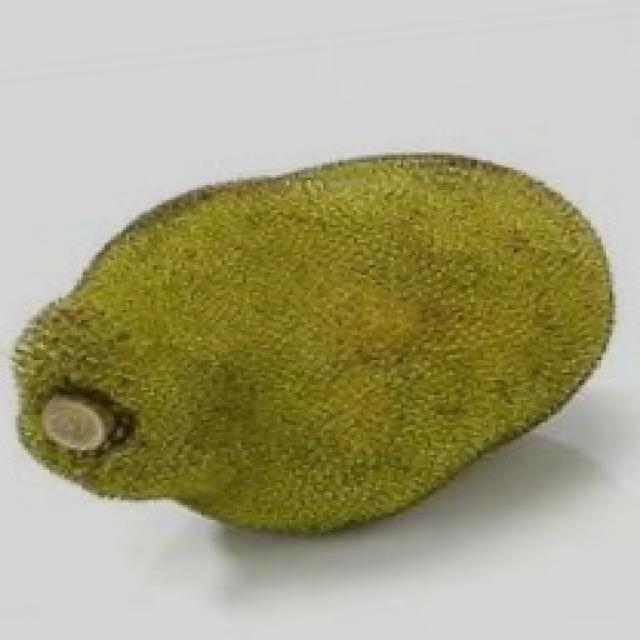Fruit: (252, 130, 640, 548), (3, 157, 403, 555)
